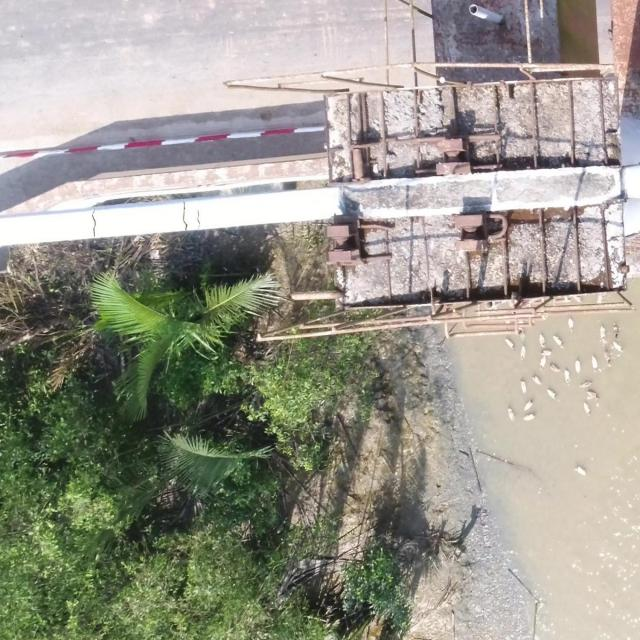crack: (181, 199, 188, 231), (90, 206, 97, 238), (197, 209, 201, 230)
